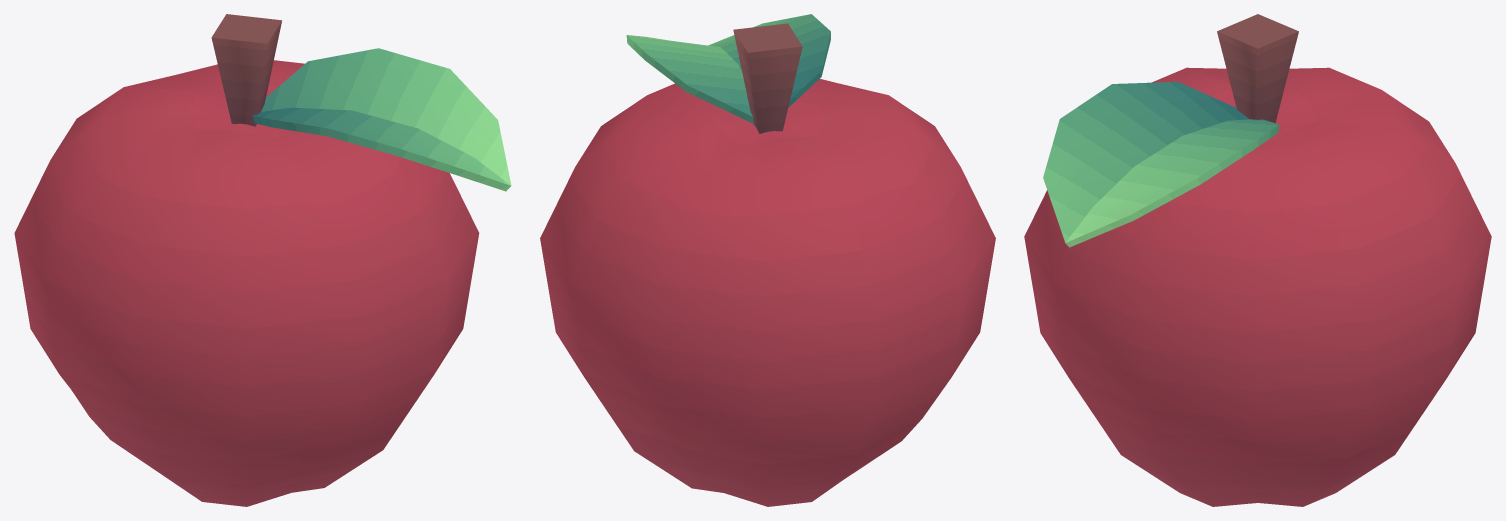
Rendered from apple.glb.
The picture shows the model from 3 angles, left to right: view 1: azimuth 30°, elevation 25°; view 2: azimuth 150°, elevation 25°; view 3: azimuth 270°, elevation 25°; orthographic projection. The views are drawn at different scales.
Parts seen in each view (by area): view 1: mesh_apple_01 - Default.001_0; view 2: mesh_apple_01 - Default.001_0; view 3: mesh_apple_01 - Default.001_0.
Part boxes in pixels (x1,y1,x2,y2): mesh_apple_01 - Default.001_0: (14, 14, 511, 506); mesh_apple_01 - Default.001_0: (540, 14, 995, 506); mesh_apple_01 - Default.001_0: (1024, 14, 1491, 506).
Bounding box in the file's own units: 143 × 150 × 143.
1 material, 1 textured.
